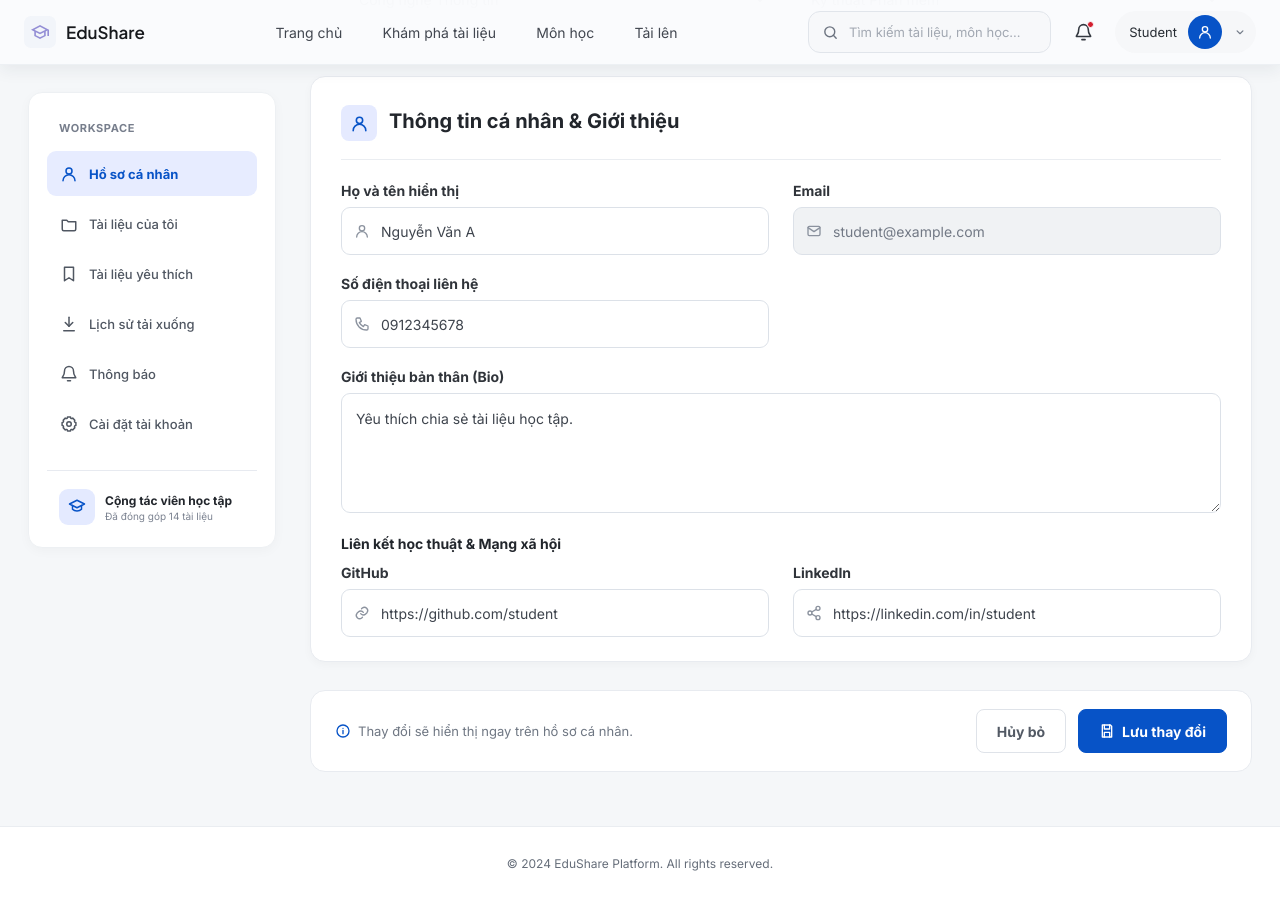
Scenario: personal profile › returns to the profile without submitting when cancelled
(page scrolled)
Expected: the field showing "Nguyễn Văn A" is shown, x1=341 y1=207 x2=769 y2=255
Step 1. Click the button "Hủy bỏ" → point(1021, 731), box x1=976 y1=709 x2=1066 y2=753
(page scrolled)
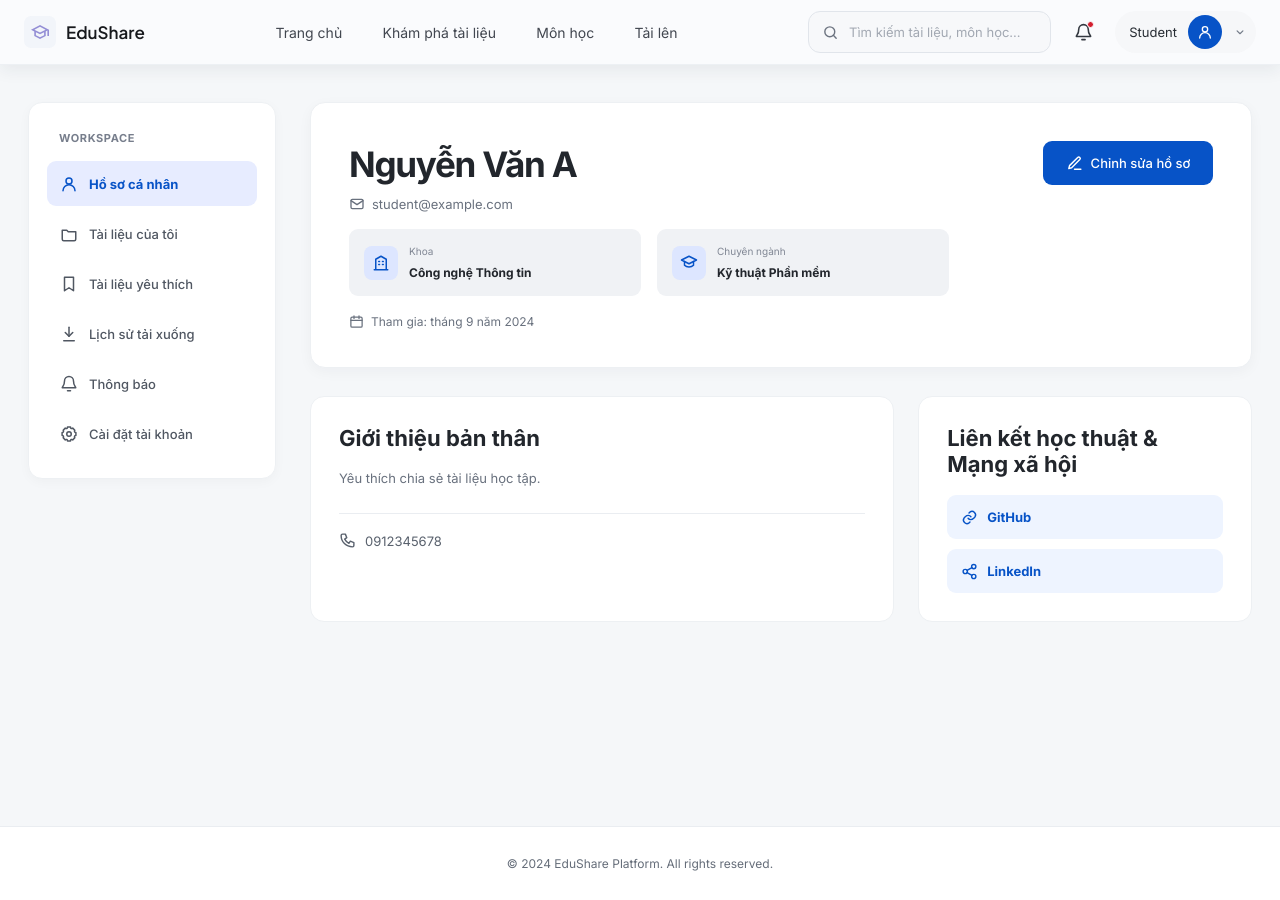
Expected: the heading "Nguyễn Văn A" is shown, x1=349 y1=144 x2=576 y2=184
